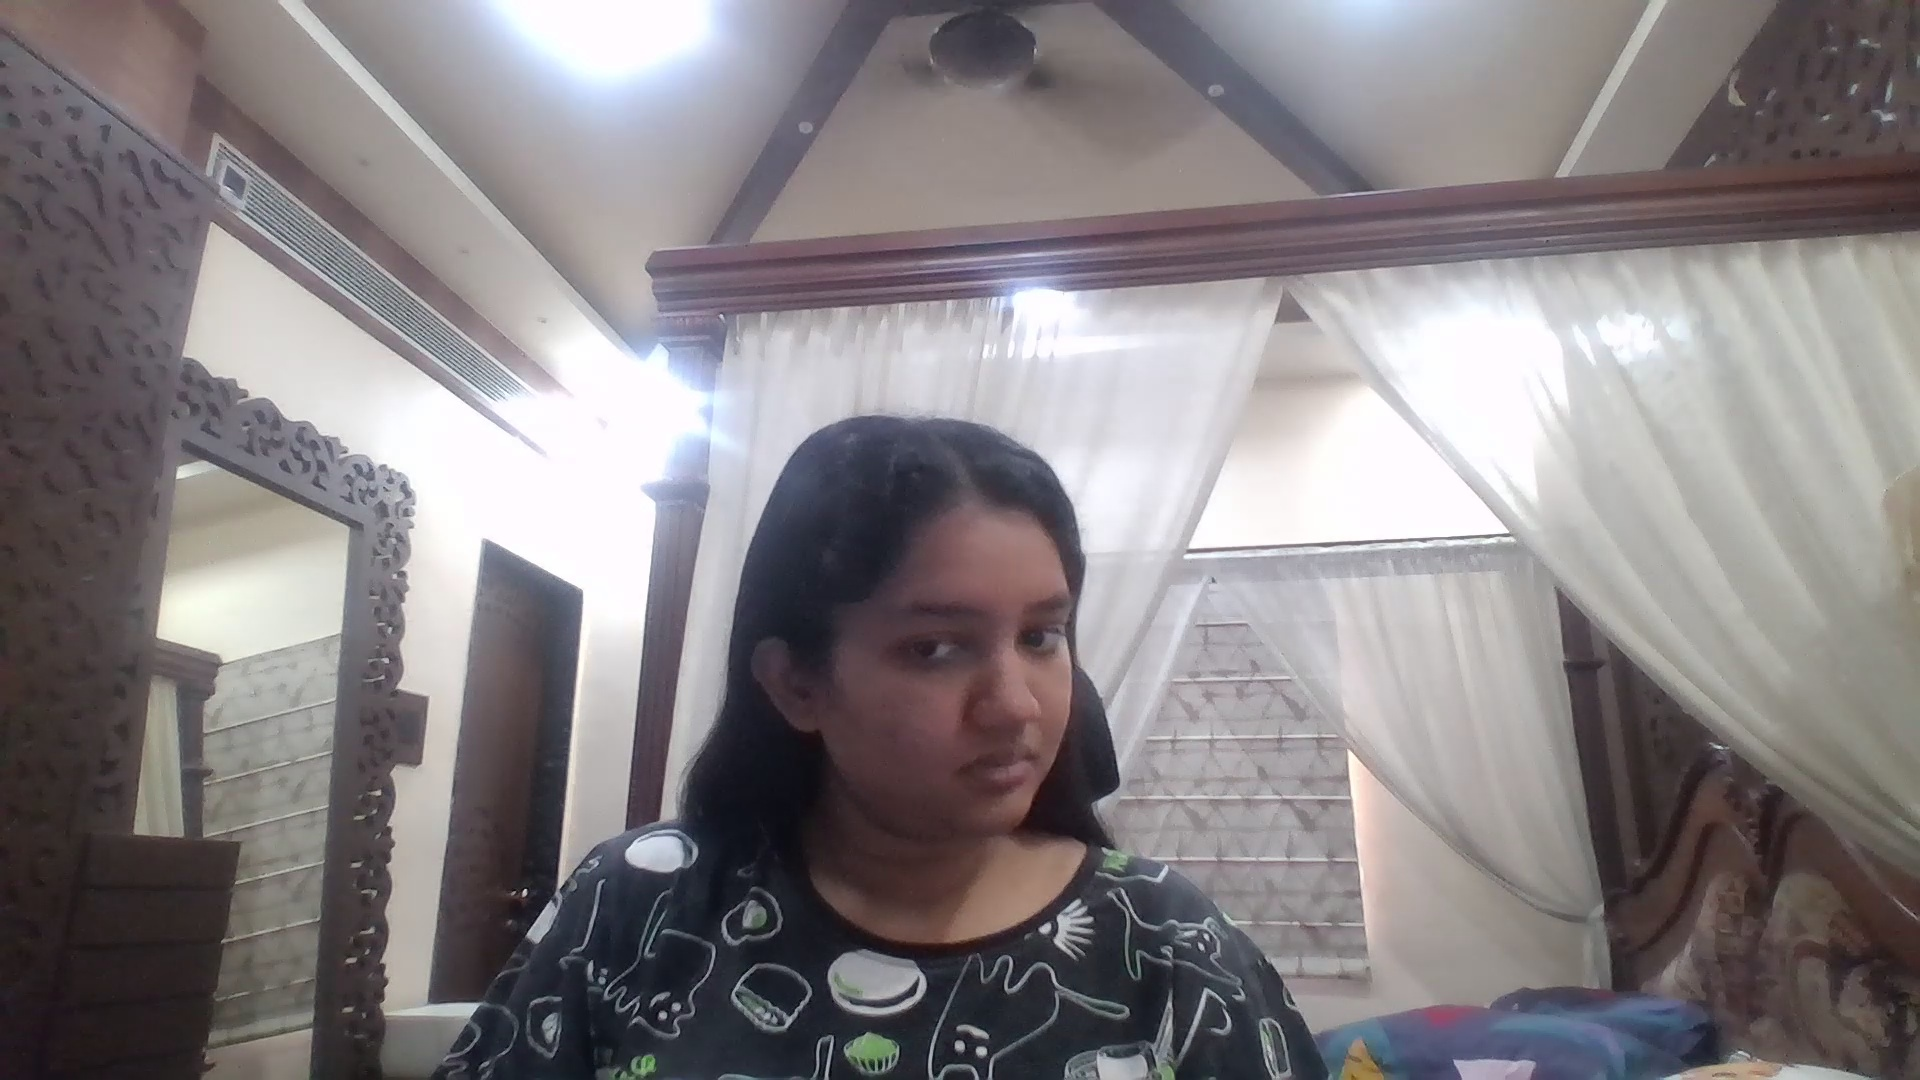No Mask: (823, 683, 1076, 828)
